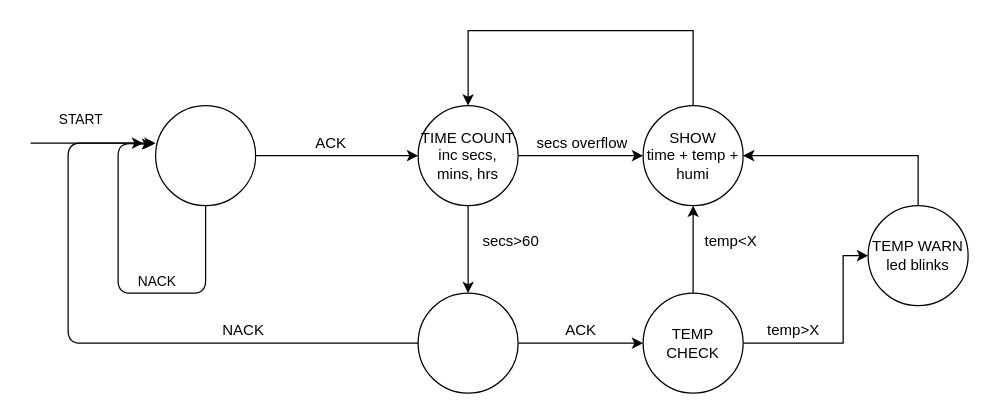
Image size: 990x415. Some labels were removed from this diagram. Each missing label, with the centre of its shape:
CHECK DHT12, D3231, LCD: [205,155]
READ temp+humi: [467,342]
